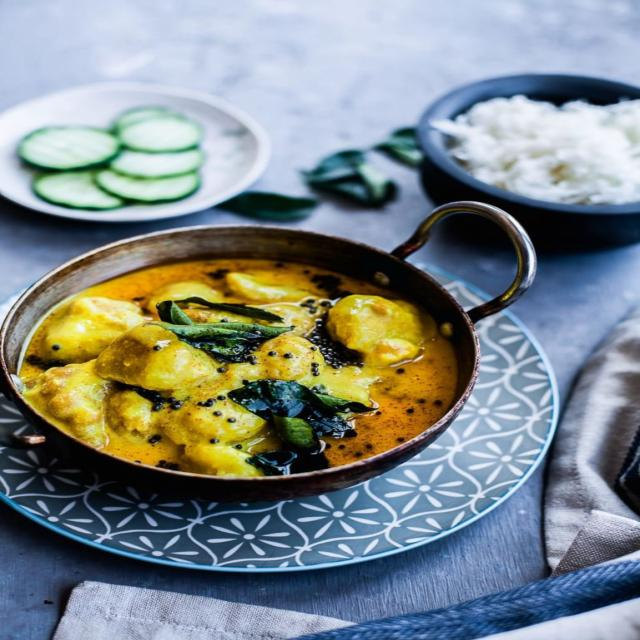Kadhi Pakora: (12, 255, 458, 483)
